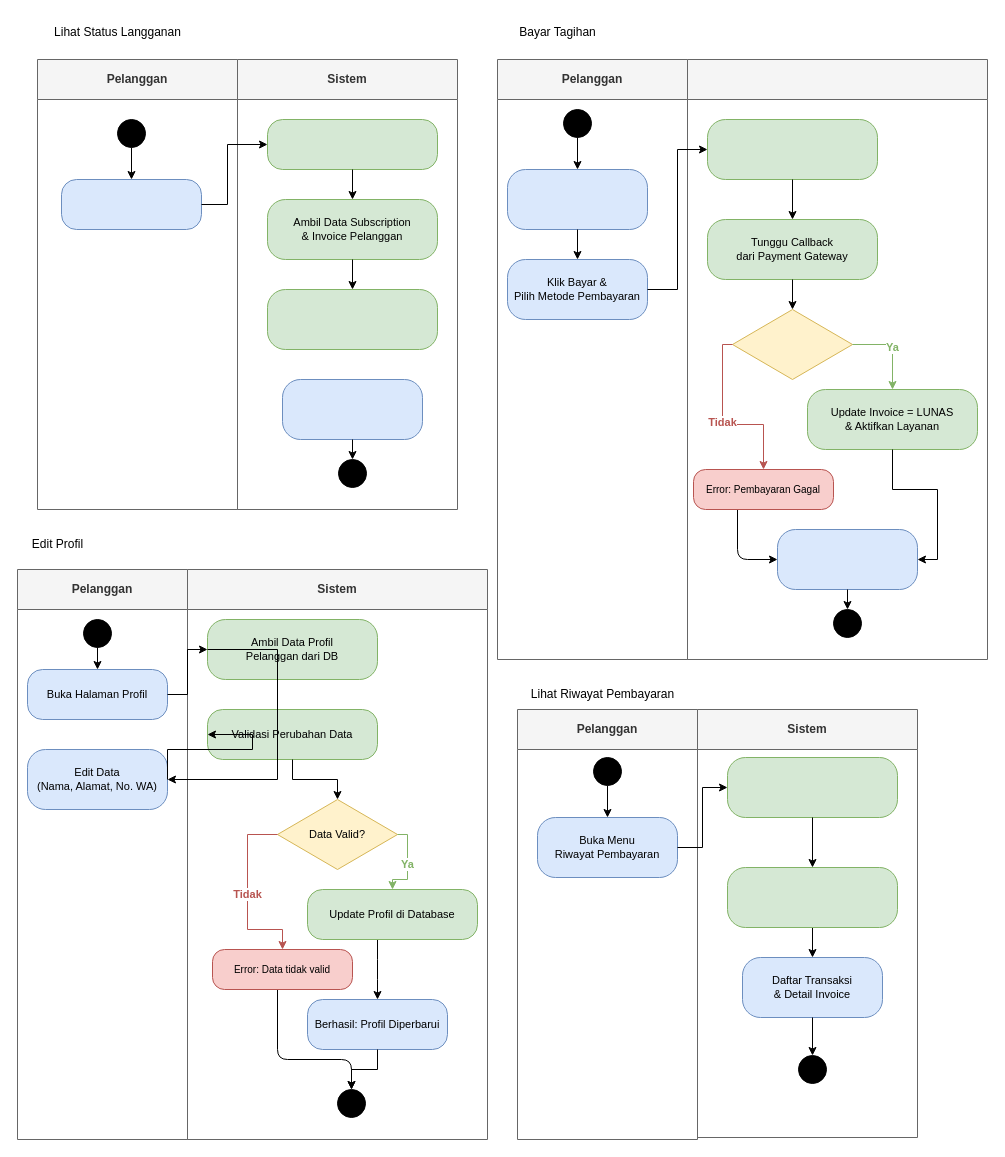
This 1005x1157 diagram has some shape labels left out. The box of each missing label's shape, as (x1, y1, x2, y2) in pixels:
Buat Payment Request ke Xendit: (706, 118, 878, 180)
Format Data: Tanggal, Nominal, Status: (726, 866, 898, 928)
Hitung Status: Aktif, Jatuh Tempo, Terisolasi: (266, 288, 438, 350)
Lihat Dashboard Status Langganan: (282, 378, 422, 440)
Login ke Customer Portal: (60, 178, 202, 230)
Pembayaran Berhasil?: (732, 308, 852, 380)
Pilih Invoice yang Belum Dibayar: (506, 168, 648, 230)
Query Invoice & Payment History by Customer ID: (726, 756, 898, 818)
Sistem (Payment Gateway): (686, 58, 988, 660)
Terima Konfirmasi Pembayaran Berhasil: (776, 528, 918, 590)
Verifikasi Token JWT: (266, 118, 438, 170)
